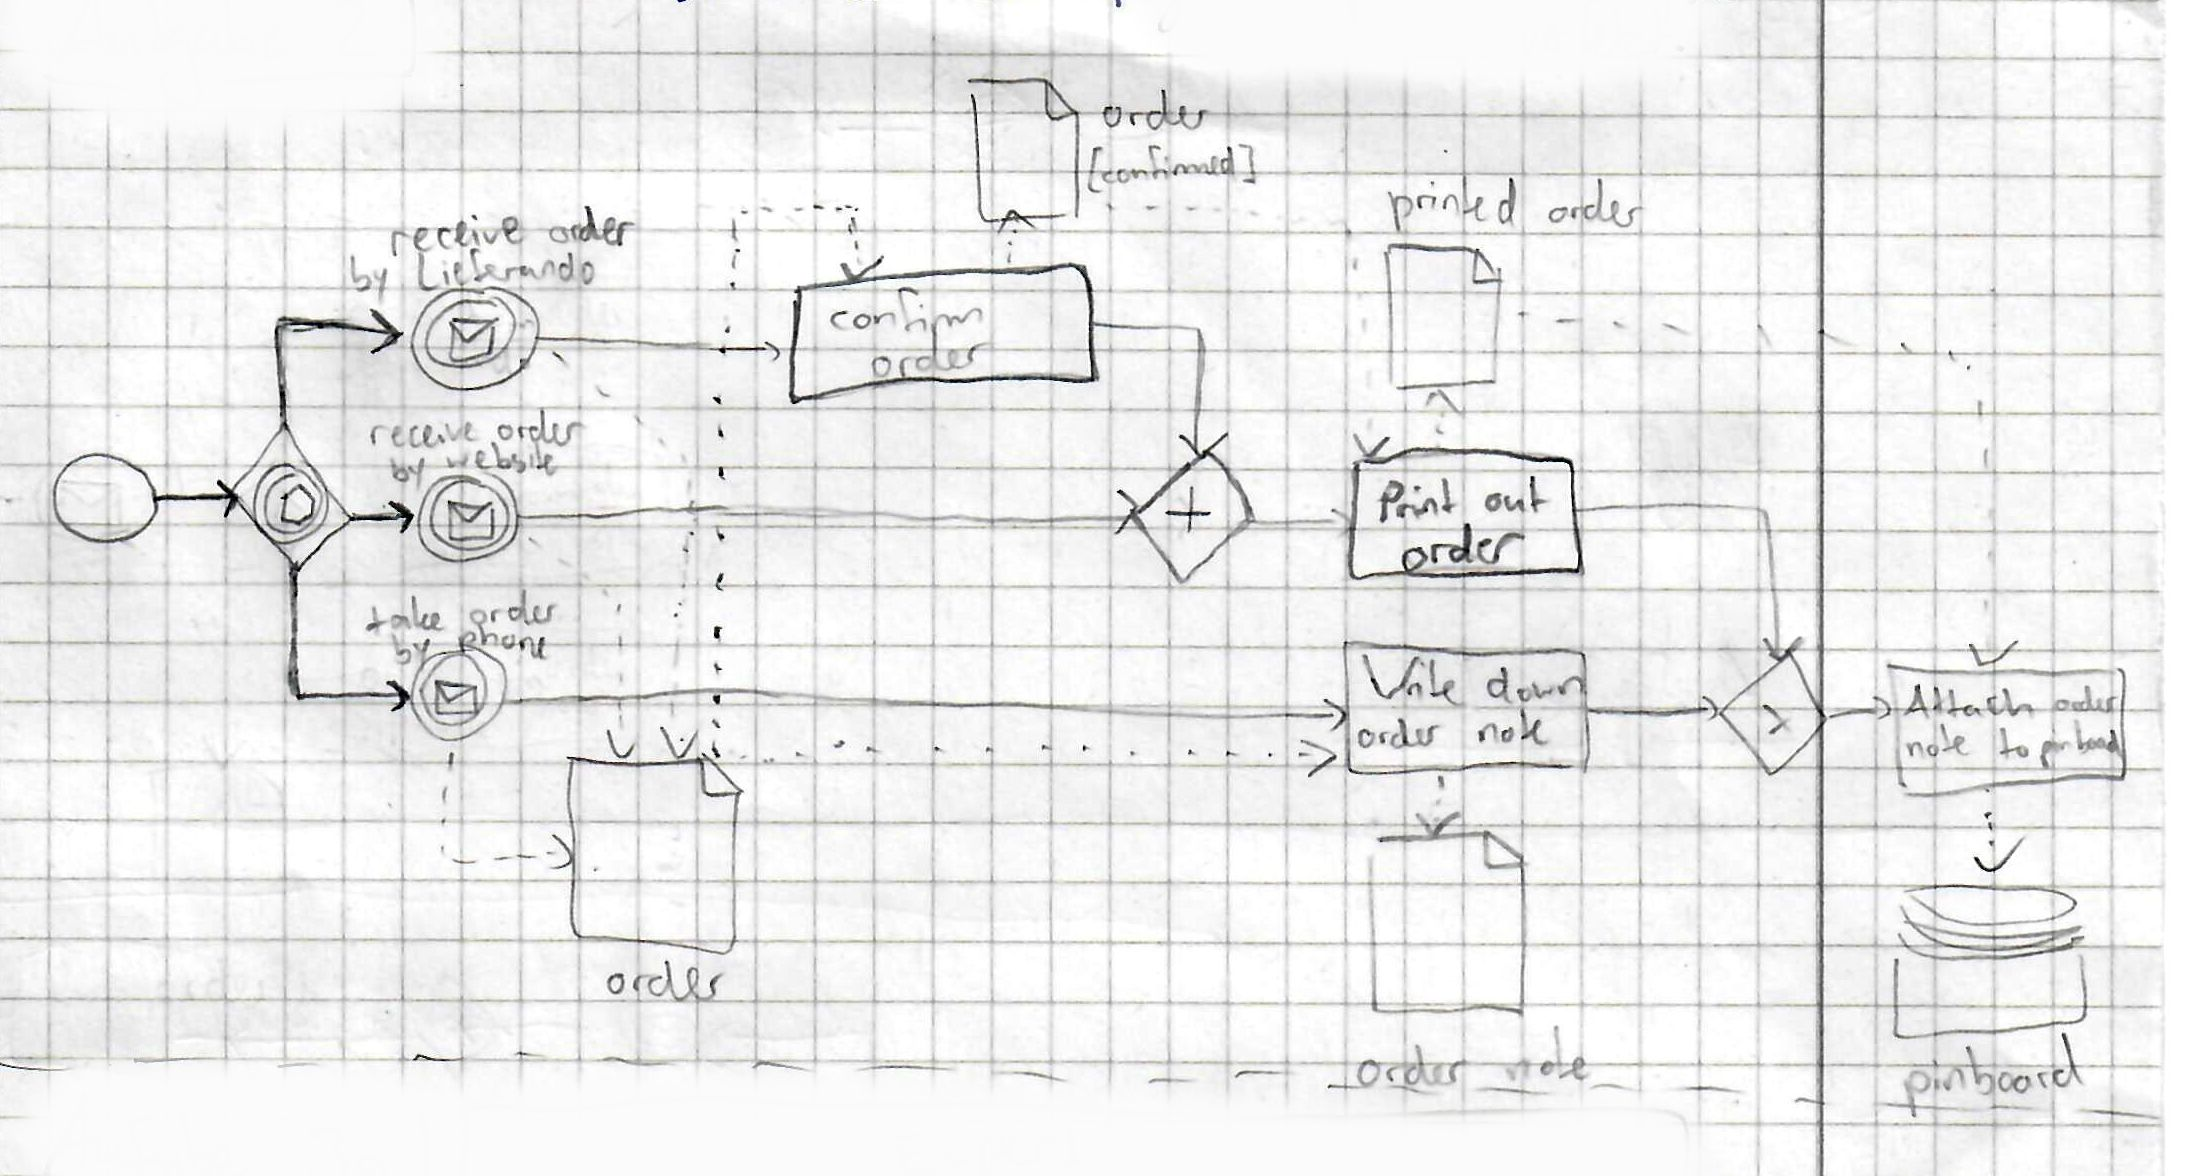Attach: (1897, 684, 2047, 723)
Lieferando: (408, 251, 599, 294)
Print: (1371, 476, 1472, 524)
Write: (1355, 652, 1475, 710)
[confirmed]: (1083, 140, 1262, 201)
by: (339, 255, 400, 303), (387, 629, 436, 666), (384, 449, 433, 485)
confirm: (830, 285, 987, 337)
down: (1484, 655, 1584, 710)
note: (1504, 1028, 1594, 1088), (1474, 707, 1555, 755), (1904, 726, 1976, 766)
order: (1096, 84, 1216, 143), (1348, 1041, 1484, 1093), (1403, 521, 1522, 574), (861, 335, 995, 381), (1542, 177, 1648, 235), (607, 954, 733, 1002), (543, 201, 647, 251), (488, 407, 586, 450), (1355, 713, 1451, 755), (468, 589, 559, 627)
out: (1480, 471, 1549, 521)
phone: (456, 627, 550, 660)
pinboard: (1897, 1036, 2088, 1118), (2038, 720, 2121, 768)
poder: (2051, 684, 2125, 721)
printed: (1384, 177, 1532, 235)
receive: (379, 211, 540, 256), (366, 416, 491, 452)
take: (356, 600, 455, 639)
to: (1994, 726, 2031, 765)
website: (439, 445, 565, 472)
